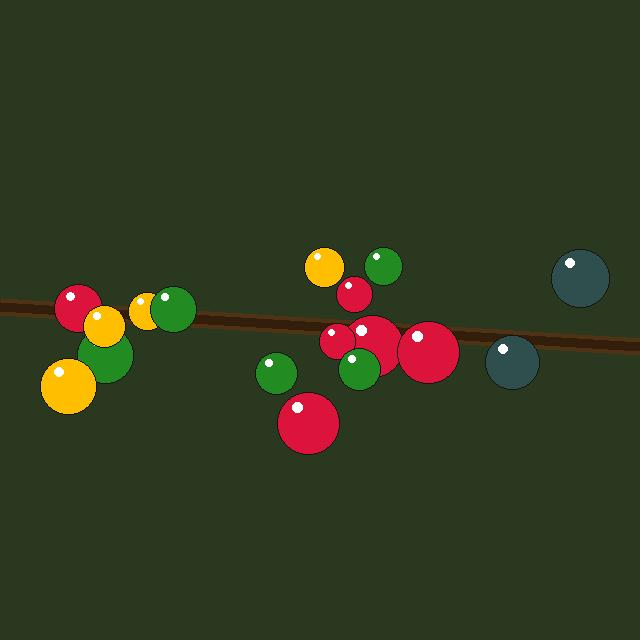Dry_Damaged: (551, 249, 609, 307), (485, 335, 539, 389)
Ripe: (341, 315, 403, 377), (277, 392, 339, 454), (397, 321, 459, 383), (54, 284, 102, 332), (336, 276, 372, 312), (319, 323, 355, 359)
Ripening: (40, 358, 96, 414), (83, 305, 125, 347), (304, 247, 344, 287), (128, 292, 166, 330)
Unripe: (77, 327, 133, 383), (150, 286, 196, 332), (255, 352, 297, 394), (338, 348, 380, 390), (364, 247, 402, 285)
